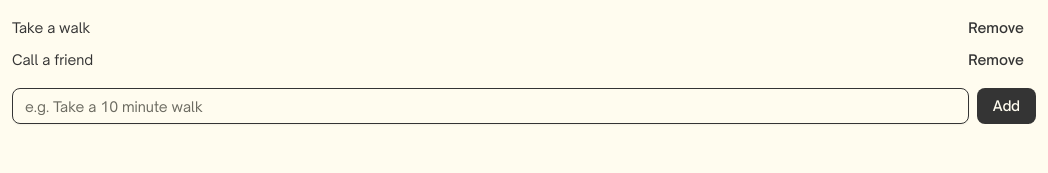
Test: RemovableList › adds a line at once, with Remove disabled until it's saved
In the field with placeholder "e.g. Take a 10 minute walk": (490, 106) [12,88,969,124], type "Dance"
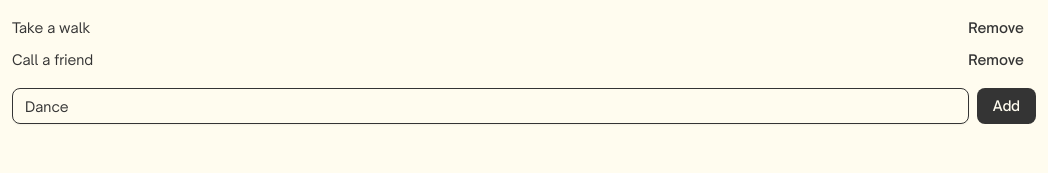
Click the button "Add": click(1006, 106) [977,88,1036,124]
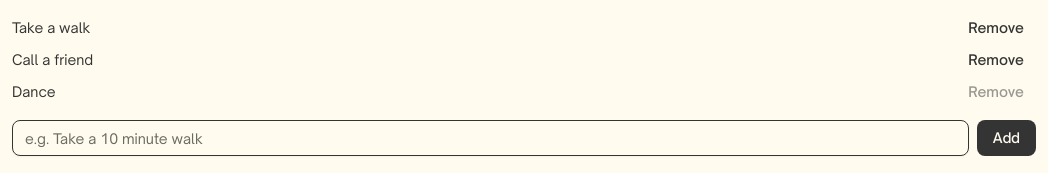
Result: the text "Dance" is shown at [12,82,56,102]
Result: the button "Remove" in the row of "Dance" is disabled at [956,76,1036,108]
